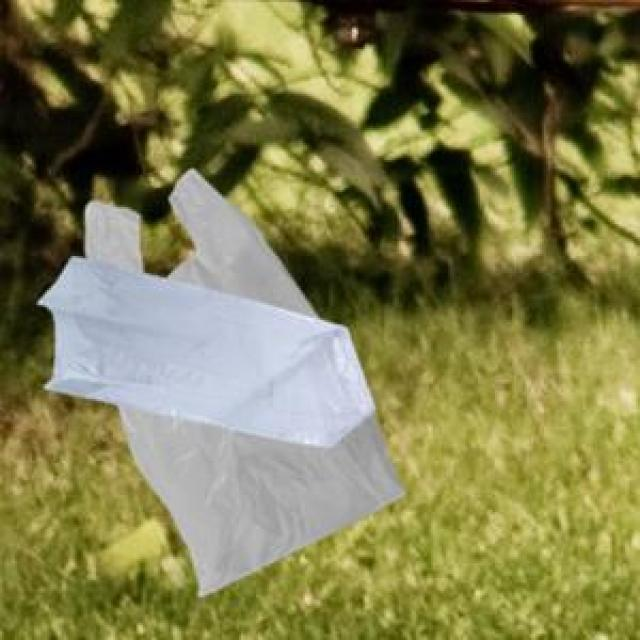waste: (40, 170, 402, 594)
